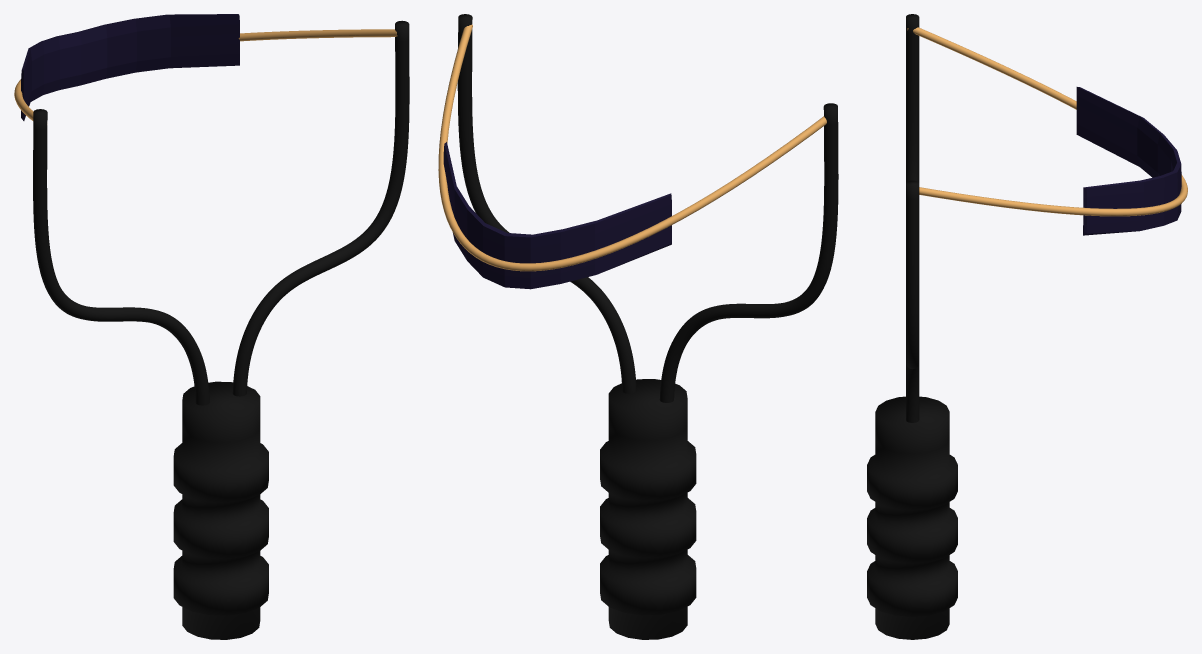
File: bow.fbx
The picture shows the model from 3 angles, left to right: view 1: azimuth 30°, elevation 25°; view 2: azimuth 150°, elevation 25°; view 3: azimuth 270°, elevation 25°; orthographic projection. The views are drawn at different scales.
Parts seen in each view (by area): view 1: NurbsPath.001; view 2: NurbsPath.001; view 3: NurbsPath.001.
Part boxes in pixels (<box>): NurbsPath.001: <box>14,14,409,639</box>; NurbsPath.001: <box>438,14,838,639</box>; NurbsPath.001: <box>867,14,1187,639</box>.
Bounding box in the file's own units: 428 × 607 × 337.
